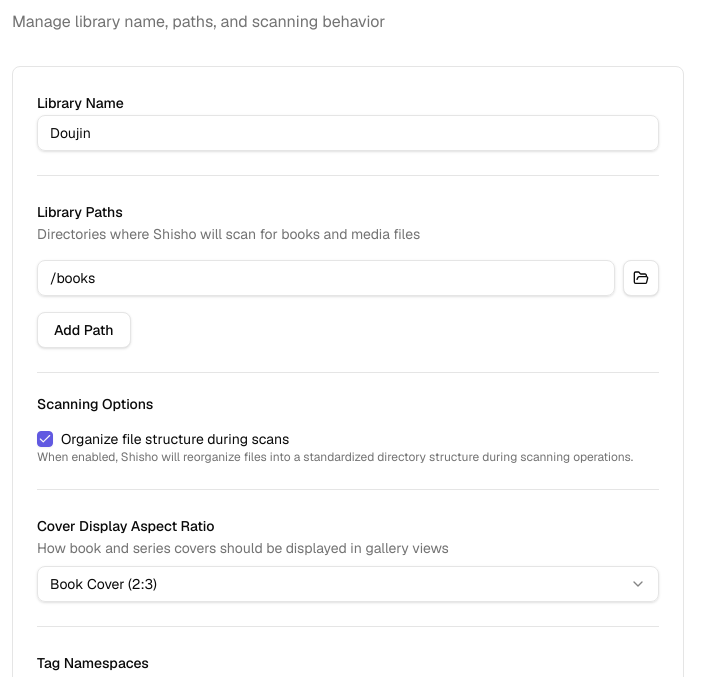
Test: LibrarySettings library paths › shows the paths as the server saved them
Step 1. Replace the text in the field named "Library path 1" with "/media/books/" → (326, 278), box x1=37 y1=260 x2=615 y2=296
(page scrolled)
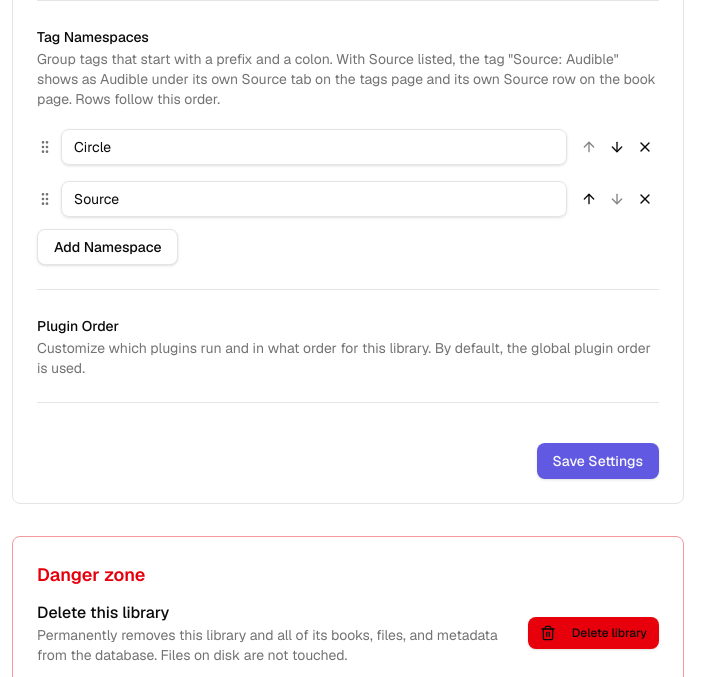
Step 2. Click the button "Save Settings" → (598, 461), box x1=537 y1=443 x2=659 y2=479
(page scrolled)
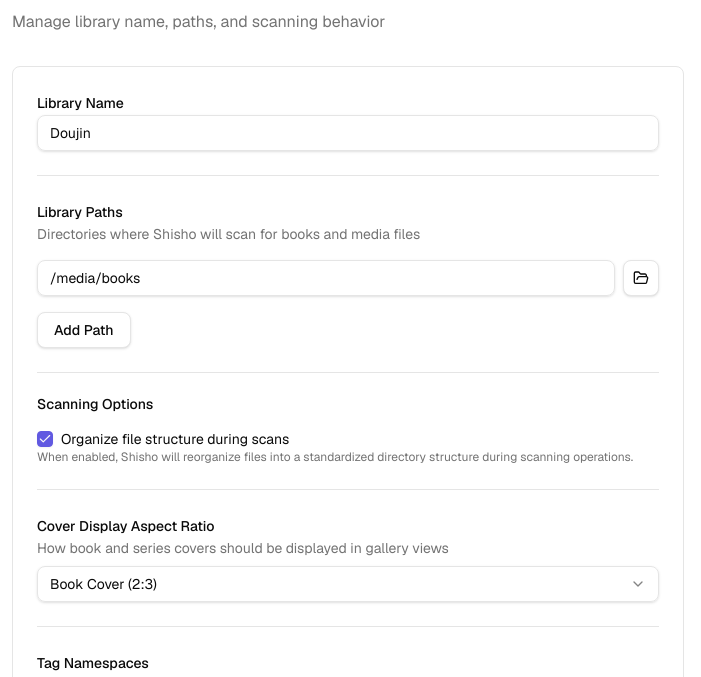
Now the field named "Library path 1" holds "/media/books", box x1=37 y1=260 x2=615 y2=296
